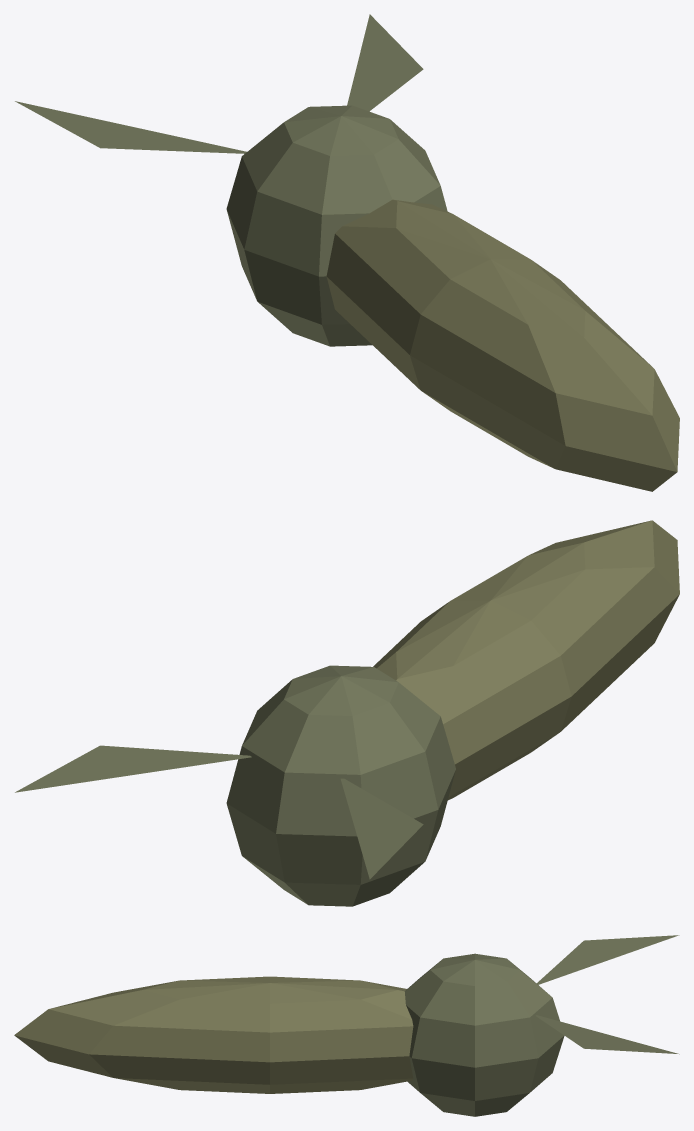
File: fauna-butterfly.glb
3 renders of one model, top to bottom at view 1: azimuth 30°, elevation 25°; view 2: azimuth 150°, elevation 25°; view 3: azimuth 270°, elevation 25°, orthographic. The views are drawn at different scales.
Bounding box in the file's own units: 0.044 × 0.026 × 0.104.
